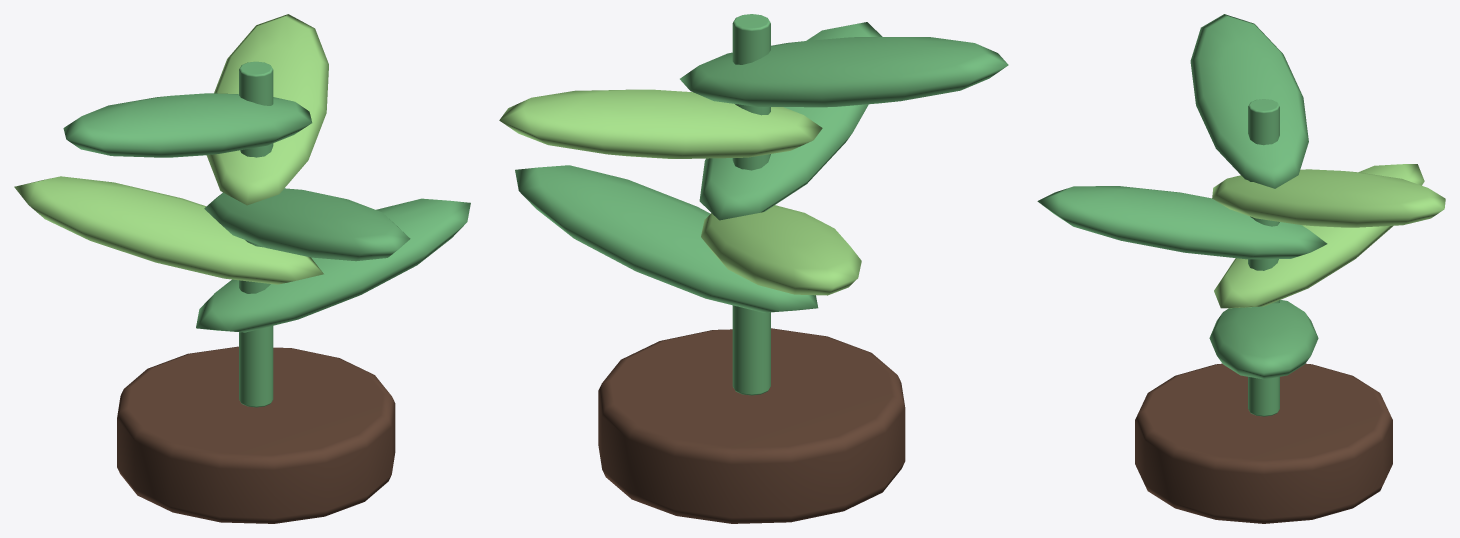
The model's file is Plant_Seedling.glb.
The picture shows the model from 3 angles, left to right: view 1: azimuth 30°, elevation 25°; view 2: azimuth 150°, elevation 25°; view 3: azimuth 270°, elevation 25°; orthographic projection. The views are drawn at different scales.
Parts seen in each view (by area): view 1: Soil plug.001, Growth 1 leaf.031, Growth 1 leaf.034, Growth 1 leaf.030, Growth 1 leaf.033, Growth 1 leaf.032, Plant stem.019; view 2: Soil plug.001, Growth 1 leaf.030, Growth 1 leaf.034, Growth 1 leaf.033, Growth 1 leaf.031, Growth 1 leaf.032, Plant stem.019; view 3: Soil plug.001, Growth 1 leaf.034, Growth 1 leaf.032, Growth 1 leaf.033, Growth 1 leaf.031, Growth 1 leaf.030, Plant stem.019.
Part boxes in pixels (x1,y1,x2,y2): Soil plug.001: [117, 346, 395, 523]; Growth 1 leaf.031: [14, 176, 323, 284]; Growth 1 leaf.034: [63, 93, 312, 157]; Growth 1 leaf.030: [196, 198, 470, 332]; Growth 1 leaf.033: [206, 14, 328, 205]; Growth 1 leaf.032: [204, 188, 410, 261]; Plant stem.019: [239, 61, 273, 407]; Soil plug.001: [598, 328, 905, 523]; Growth 1 leaf.030: [515, 165, 818, 312]; Growth 1 leaf.034: [680, 37, 1008, 107]; Growth 1 leaf.033: [499, 89, 822, 158]; Growth 1 leaf.031: [701, 205, 861, 295]; Growth 1 leaf.032: [699, 22, 882, 220]; Plant stem.019: [732, 14, 770, 395]; Soil plug.001: [1135, 363, 1392, 523]; Growth 1 leaf.034: [1190, 14, 1308, 188]; Growth 1 leaf.032: [1037, 186, 1327, 259]; Growth 1 leaf.033: [1212, 169, 1445, 227]; Growth 1 leaf.031: [1214, 164, 1424, 308]; Growth 1 leaf.030: [1209, 300, 1318, 379]; Plant stem.019: [1248, 99, 1279, 416].
Size of the model in its own units: 0.4555 by 0.4131 by 0.4119.
